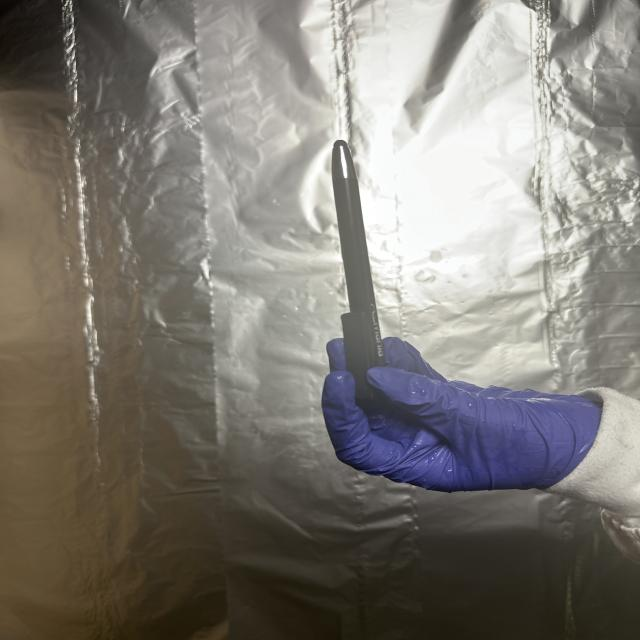gloves_contaminated: (322, 338, 601, 492)
